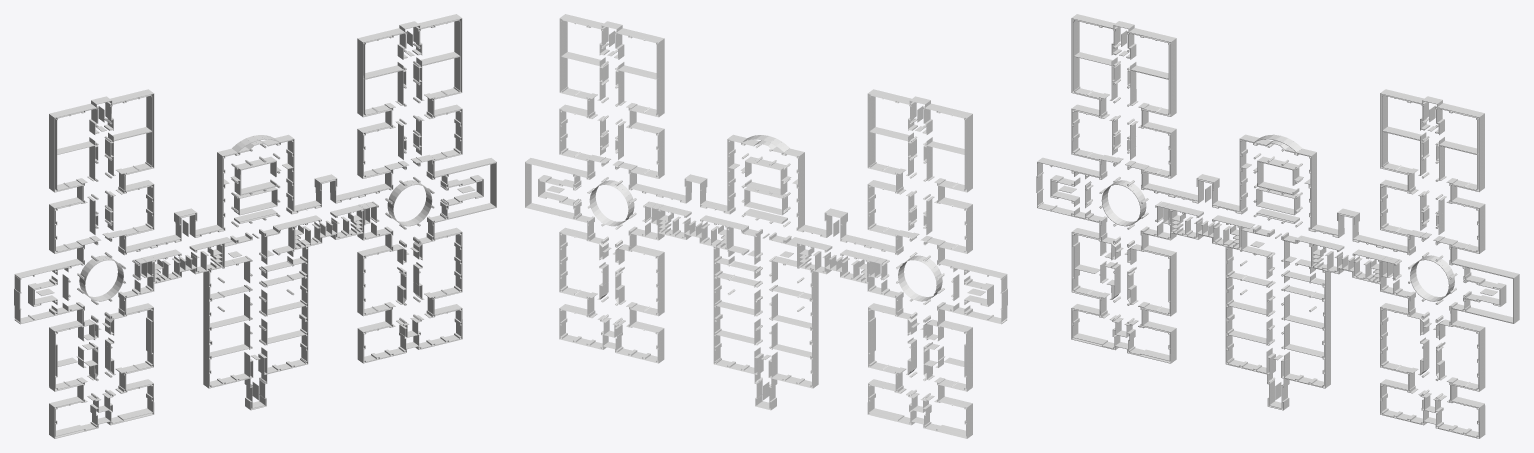
File: wall_1.obj
3 renders of one model, left to right at view 1: azimuth 30°, elevation 25°; view 2: azimuth 150°, elevation 25°; view 3: azimuth 330°, elevation 25°, orthographic.
Visible parts, largest first — view 1: walls; view 2: walls; view 3: walls.
Boxes of the visible parts, x1,y1,x2,y2 form: walls: [14, 14, 496, 438]; walls: [525, 14, 1007, 438]; walls: [1036, 14, 1519, 438].
Size of the model in its own units: 121 by 83.06 by 2.5.
